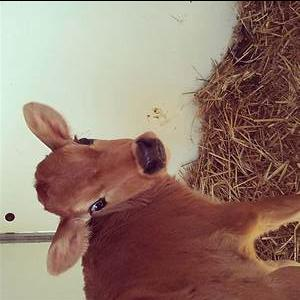cow: (21, 101, 299, 300)
